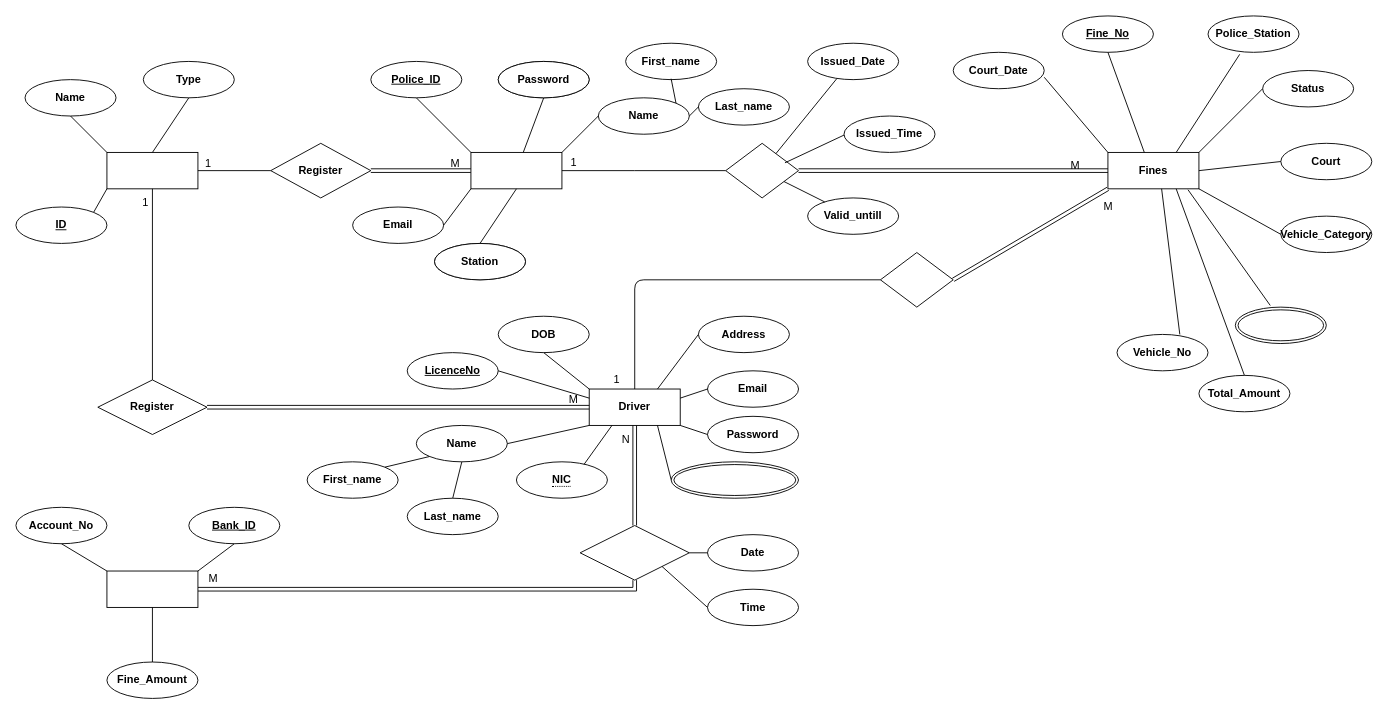
The diagram is 1388 pixels wide and 714 high, and some of its shapes have lost their labels. Here are the shapes that lost their labels. From the top down, the box of each, then its label:
(106, 152, 198, 189): Admin
(470, 152, 562, 189): Police officer
(725, 142, 799, 198): Create
(880, 252, 953, 307): PaidBy
(1234, 306, 1326, 344): Offences
(670, 461, 799, 498): Categories_of_vehicles
(579, 525, 689, 580): Make_payment
(106, 570, 198, 607): Bank
